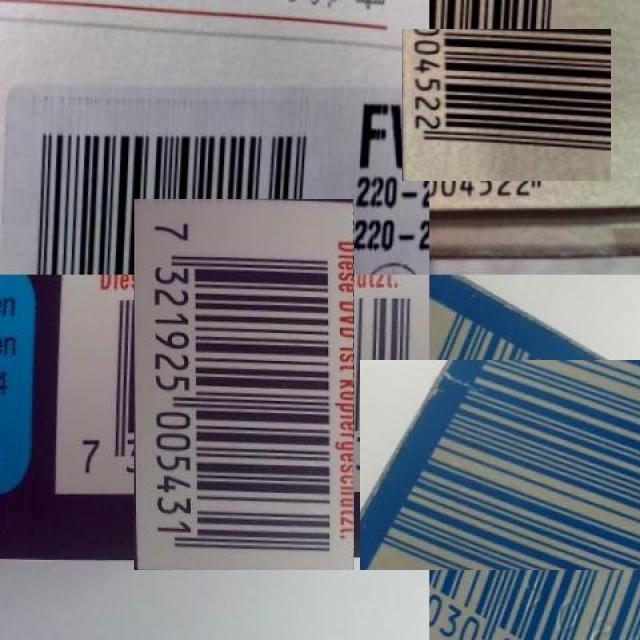Barcode: (96, 237, 392, 532), (395, 325, 640, 605), (3, 110, 340, 274), (416, 14, 597, 195)
